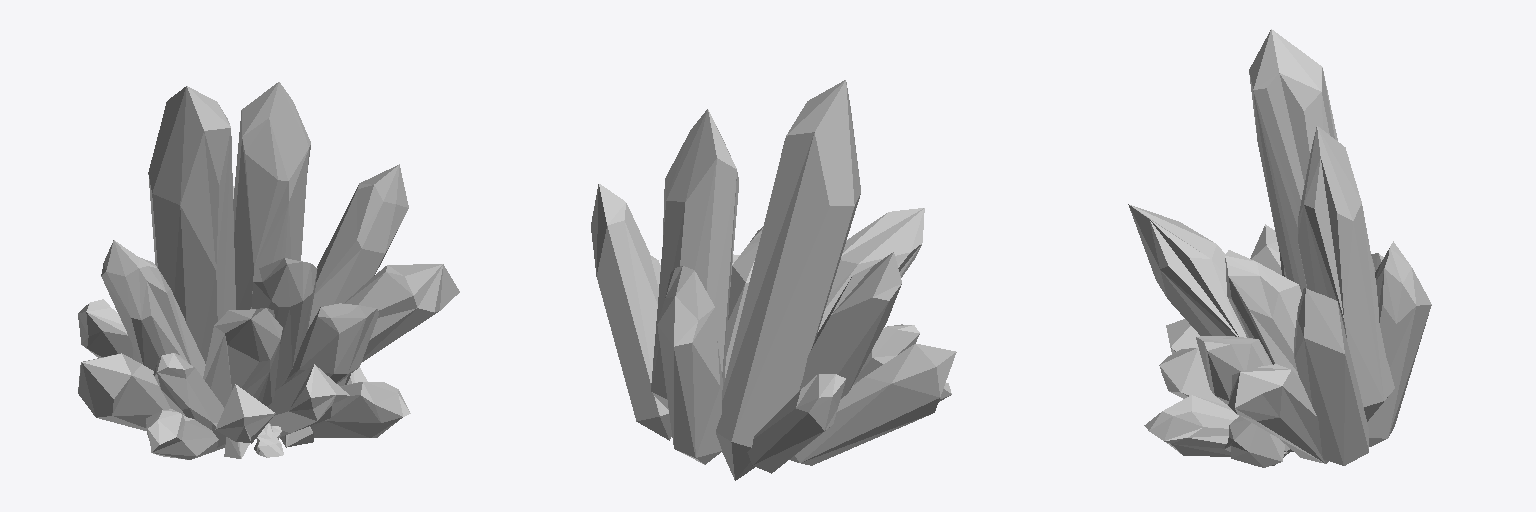
The model's file is CrystalsOBJ.obj.
The picture shows the model from 3 angles: view 1: azimuth 30°, elevation 25°; view 2: azimuth 150°, elevation 25°; view 3: azimuth 270°, elevation 25°; orthographic projection.
Visible parts, largest first — view 1: node_id8_mesh_id9; view 2: node_id8_mesh_id9; view 3: node_id8_mesh_id9.
Boxes of the visible parts, x1=… form: node_id8_mesh_id9: x1=78, y1=82, x2=459, y2=459; node_id8_mesh_id9: x1=591, y1=80, x2=956, y2=480; node_id8_mesh_id9: x1=1128, y1=29, x2=1431, y2=467.
Bounding box in the file's own units: 0.5082 × 0.512 × 0.3685.